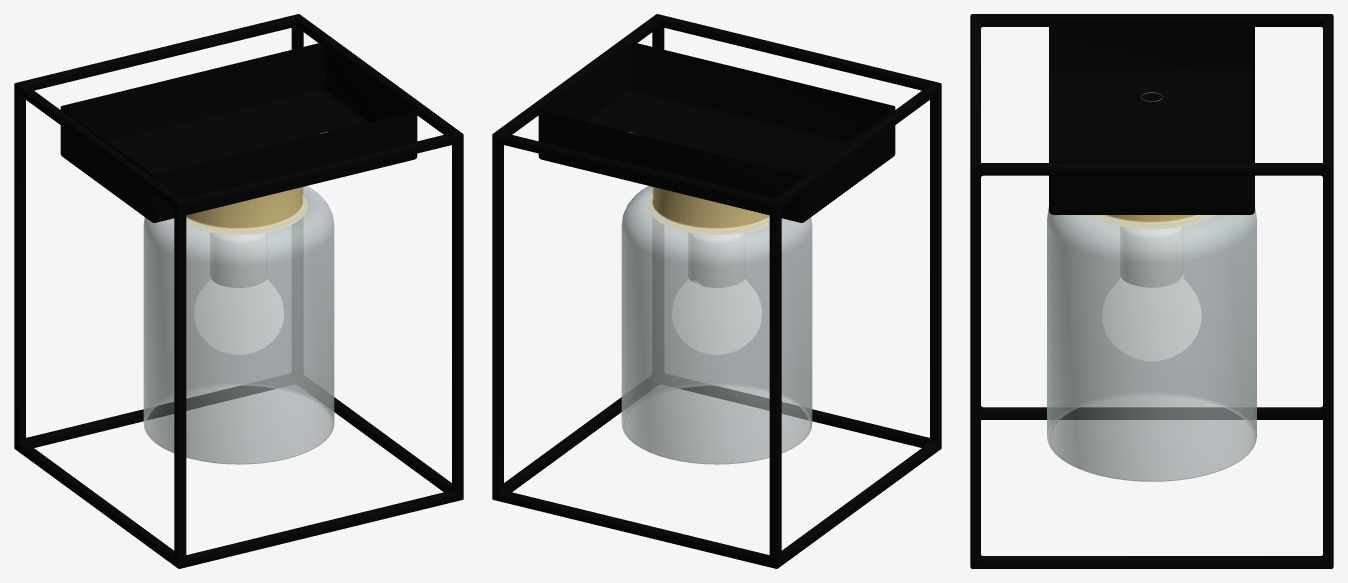
The model's file is viokef_ceiling_light.glb.
The picture shows the model from 3 angles, left to right: view 1: azimuth 30°, elevation 25°; view 2: azimuth 150°, elevation 25°; view 3: azimuth 270°, elevation 25°; orthographic projection. The views are drawn at different scales.
Parts seen in each view (by area): view 1: ceiling_viokef_0; view 2: ceiling_viokef_0; view 3: ceiling_viokef_0.
Part boxes in pixels (x1,y1,x2,y2): ceiling_viokef_0: (14, 14, 463, 568); ceiling_viokef_0: (492, 14, 941, 568); ceiling_viokef_0: (970, 14, 1333, 568).
Bounding box in the file's own units: 0.1721 × 0.2106 × 0.1721.
